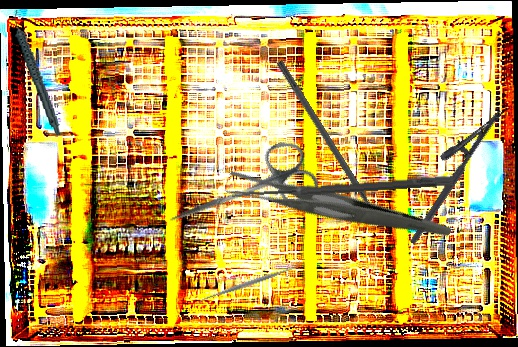Dressing Forceps: (221, 116, 452, 302)
Handpiece: (12, 6, 61, 139)
Hook Surgical: (274, 60, 385, 229)
Iris Scissors: (157, 134, 325, 254)
Needle Holder: (390, 96, 505, 246)
Spatula Surgical: (195, 259, 304, 307)
Surgical Spoon: (231, 174, 454, 201)
